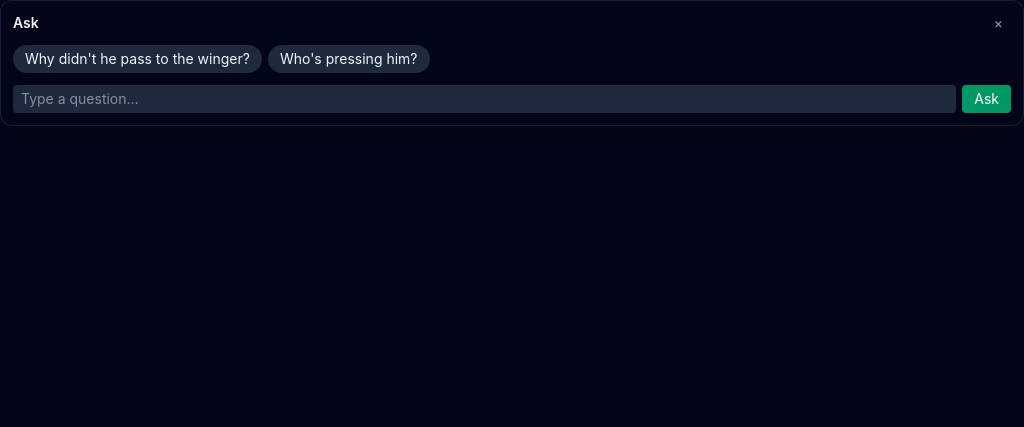
Scenario: the Ask panel › ticks stages as updates arrive
Click the button "Who's pressing him?" at (349,59), box [268, 45, 430, 73]
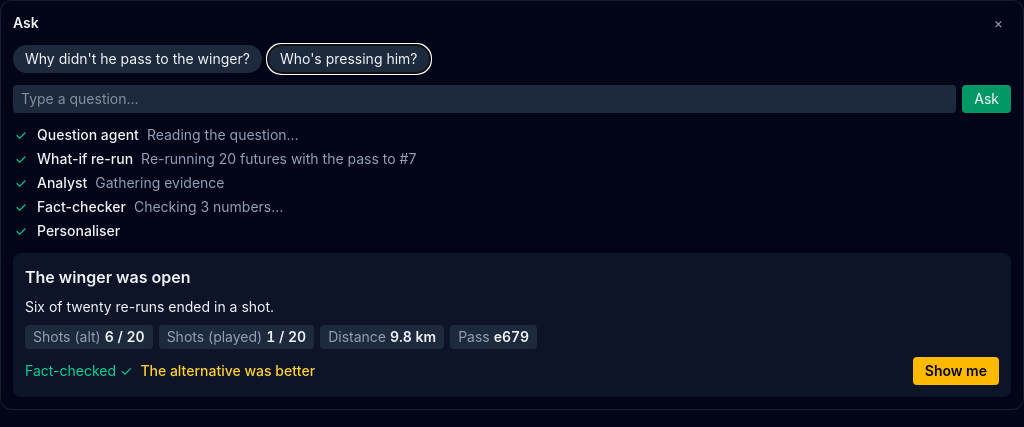
Now the text "Reading the question…" is shown, box [147, 125, 299, 145]
Now the heading "The winger was open" is shown, box [25, 267, 190, 287]
Now the text "Six of twenty re-runs ended in a shot." is shown, box [25, 298, 274, 315]
